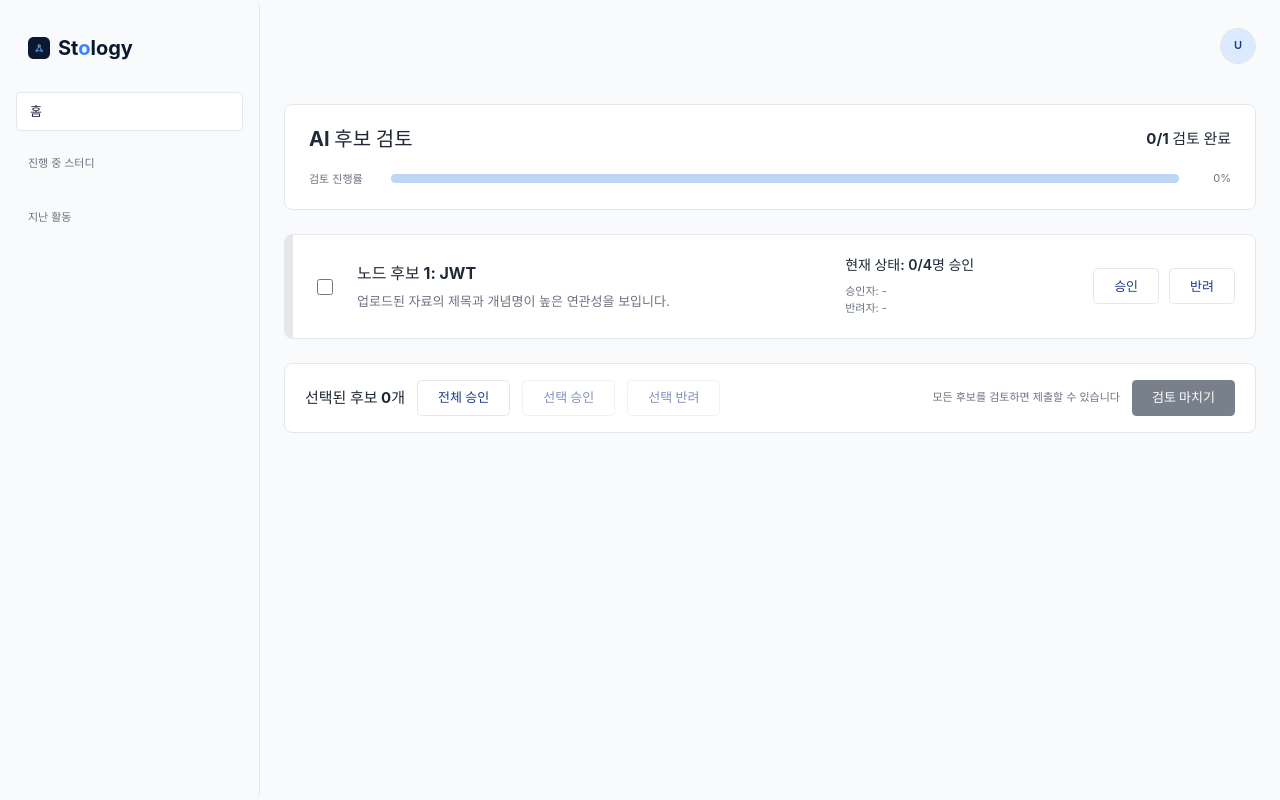
Test case: ReviewPage › 투표 제출이 실패하면 성공 메시지 대신 오류를 표시한다
expect the heading "노드 후보 1: JWT" is shown: met, box x1=357 y1=263 x2=476 y2=283
Click the button "전체 승인" at (464, 398), box x1=417 y1=380 x2=510 y2=416
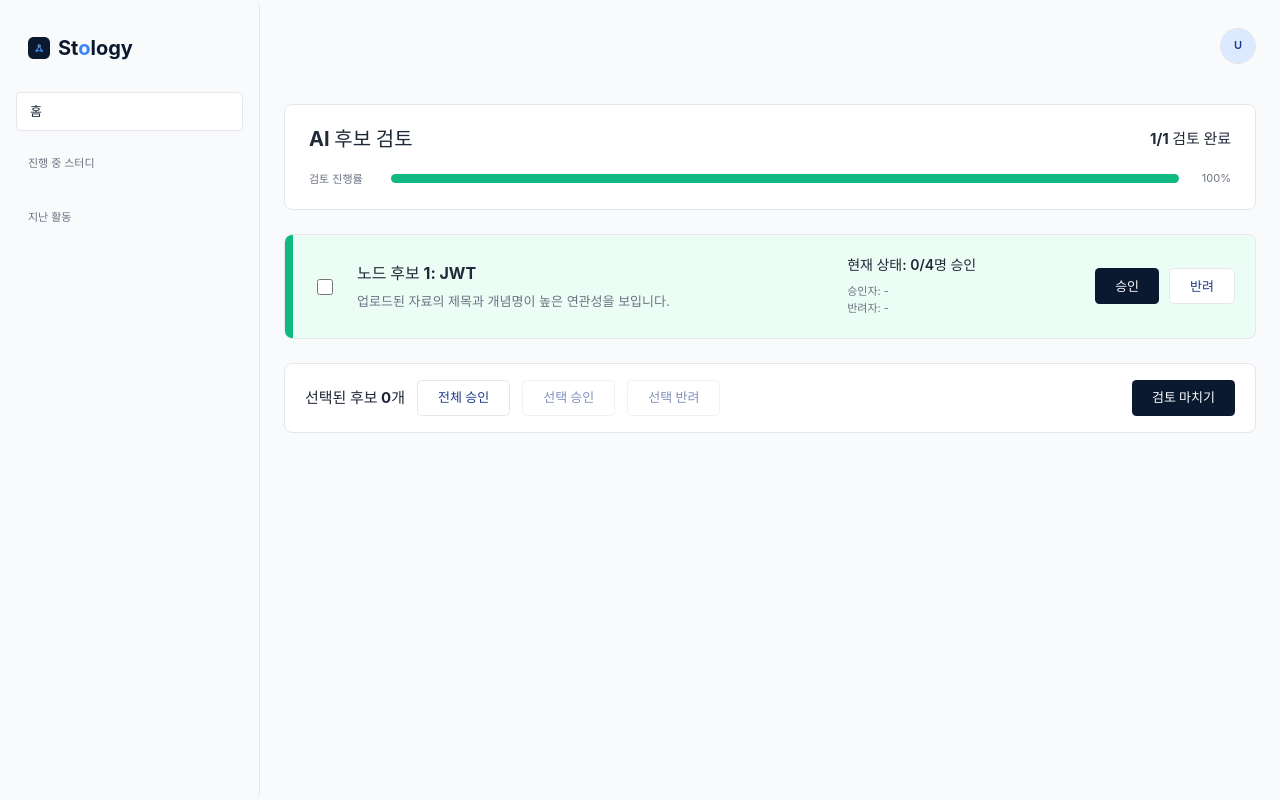
Click the button "검토 마치기" at (1183, 398), box x1=1132 y1=380 x2=1235 y2=416
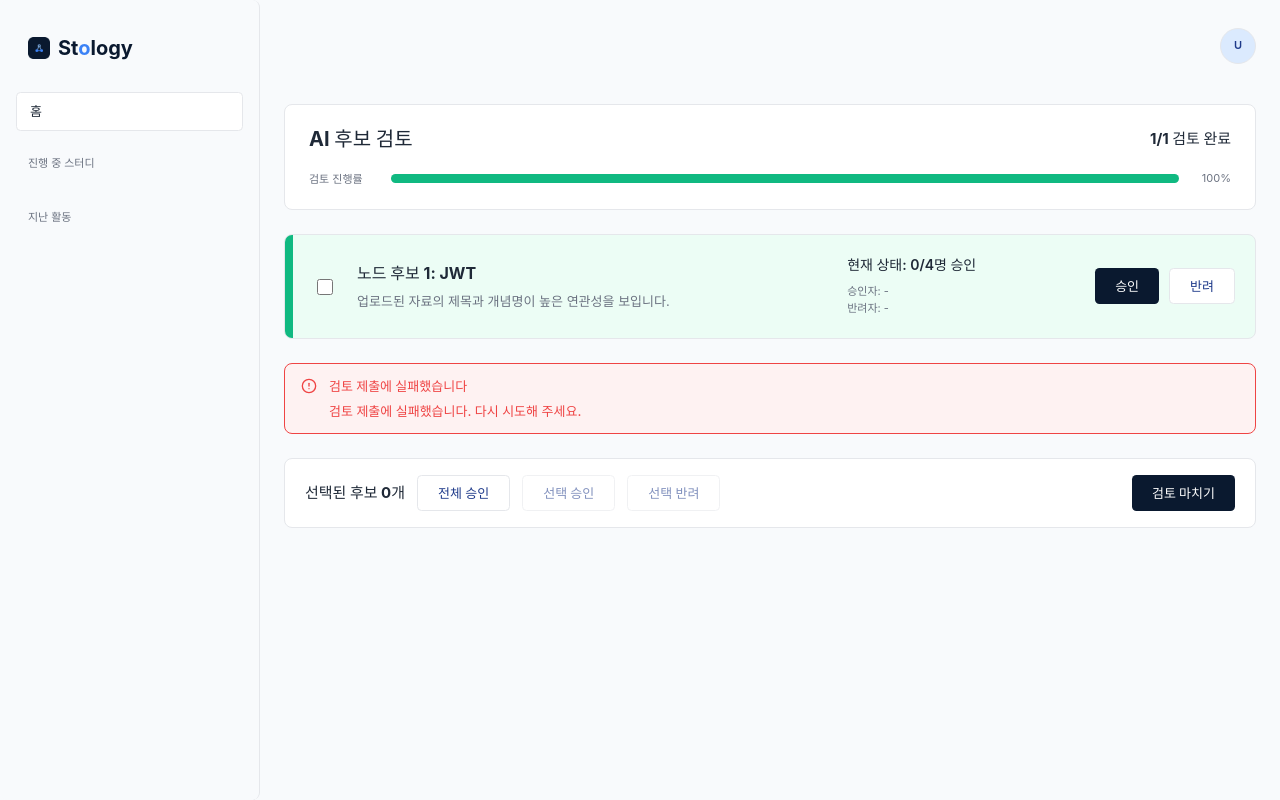
expect the text "검토 제출에 실패했습니다" is shown: met, box x1=329 y1=378 x2=467 y2=394
